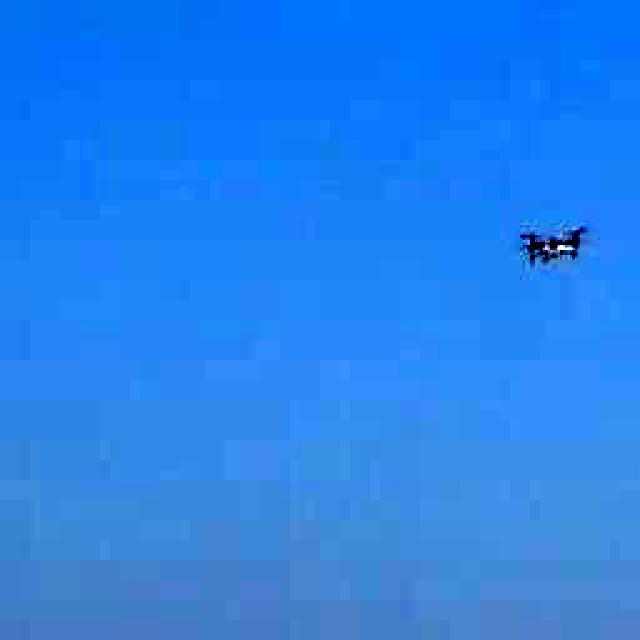bird: (500, 192, 600, 292)
